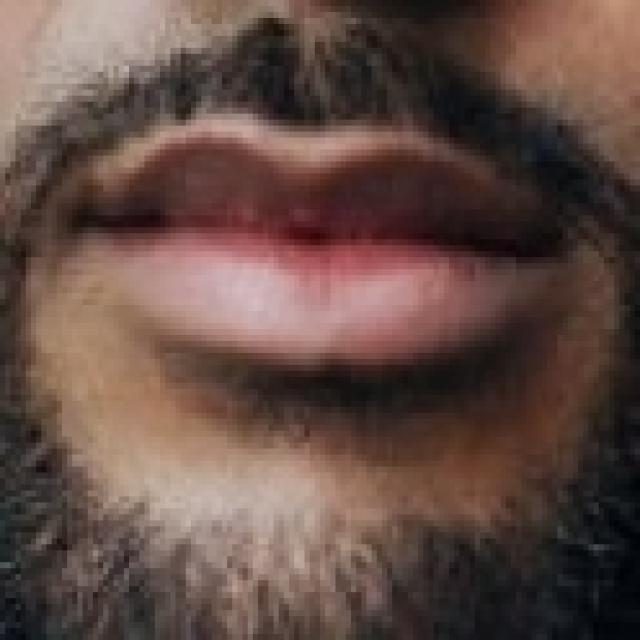closed-mouth: (56, 114, 578, 370)
